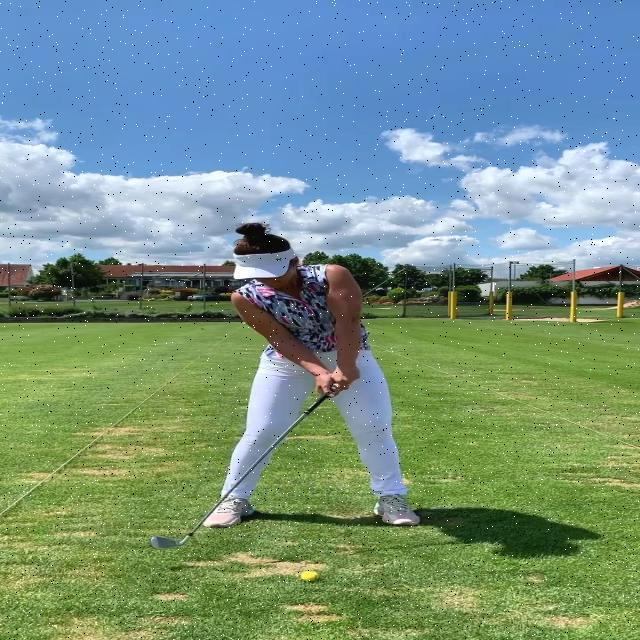ClubHead: (147, 534, 178, 550)
GolfBall: (298, 569, 328, 586)
